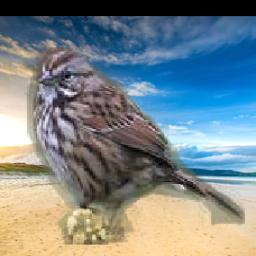Sparrow: (25, 47, 245, 245)
